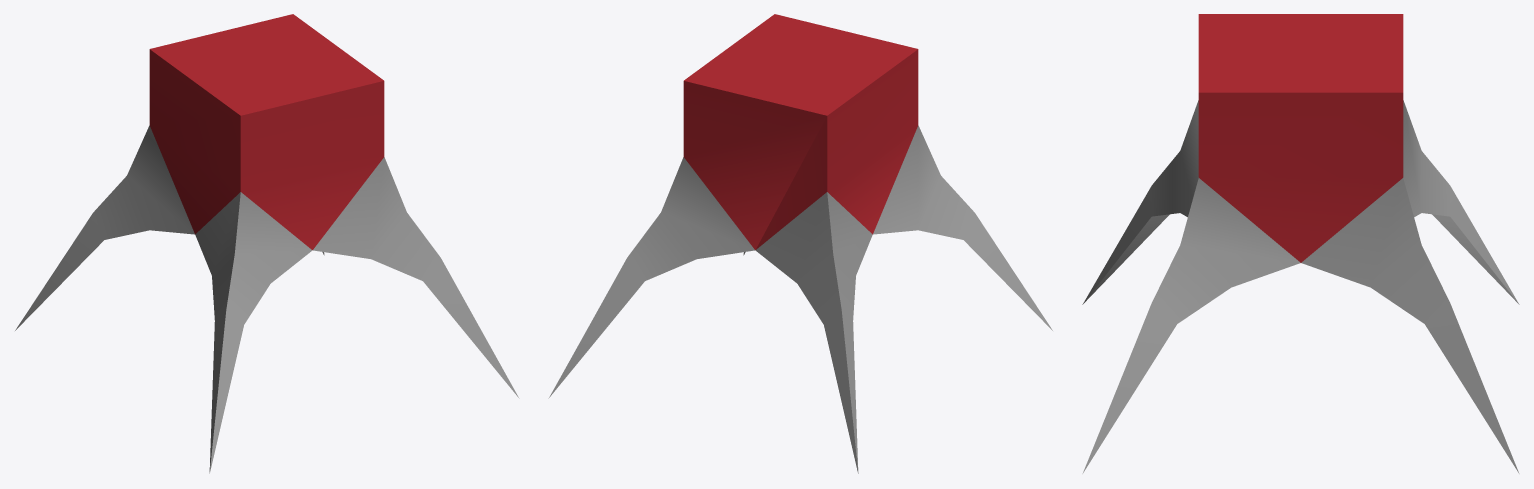
Rendered from CubeSpiderTest.fbx.
3 views of the same model, side by side, from view 1: azimuth 30°, elevation 25°; view 2: azimuth 150°, elevation 25°; view 3: azimuth 270°, elevation 25° (orthographic). The views are drawn at different scales.
Parts seen in each view (by area): view 1: pCube1; view 2: pCube1; view 3: pCube1.
Boxes of the visible parts, x1,y1,x2,y2 form: pCube1: (15, 14, 519, 473); pCube1: (548, 14, 1052, 473); pCube1: (1082, 14, 1519, 473).
Bounding box in the file's own units: 15.94 × 14.76 × 17.38.
